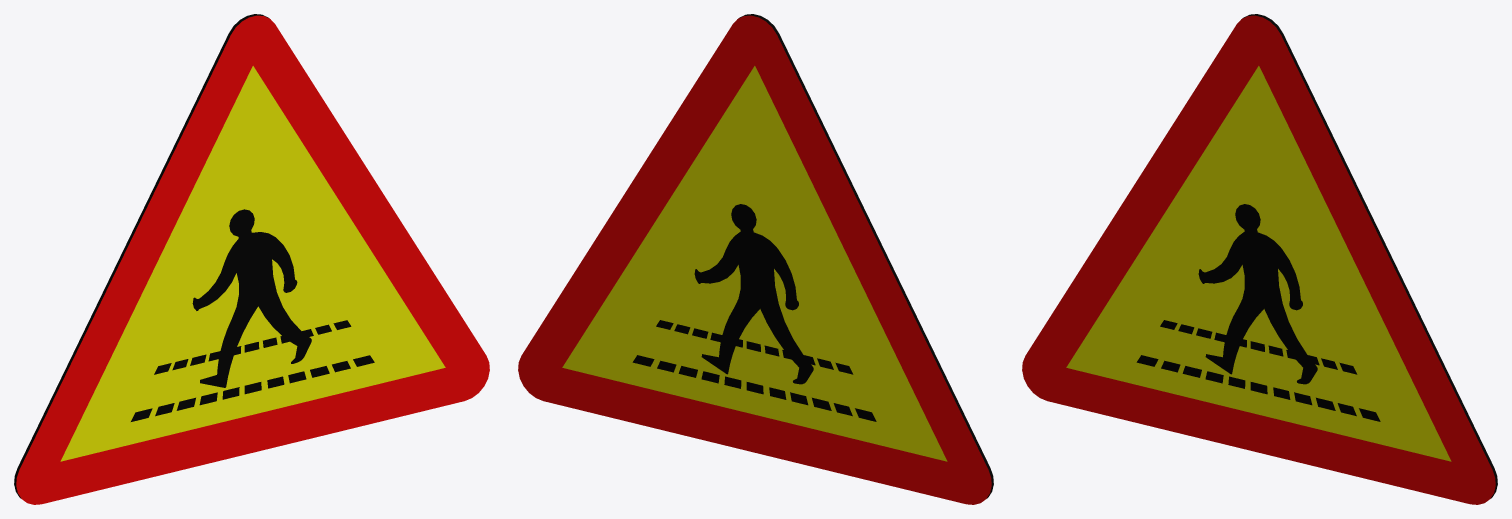
File: w.224_duongnguoidibocatngang.glb
3 renders of one model, left to right at view 1: azimuth 30°, elevation 25°; view 2: azimuth 150°, elevation 25°; view 3: azimuth 330°, elevation 25°, orthographic.
Parts seen in each view (by area): view 1: Solid3; view 2: Solid3; view 3: Solid3.
Boxes of the visible parts, x1,y1,x2,y2 form: Solid3: (14, 14, 489, 504); Solid3: (518, 14, 993, 504); Solid3: (1022, 14, 1497, 504).
Bounding box in the file's own units: 0.6486 × 0.5708 × 0.005.
